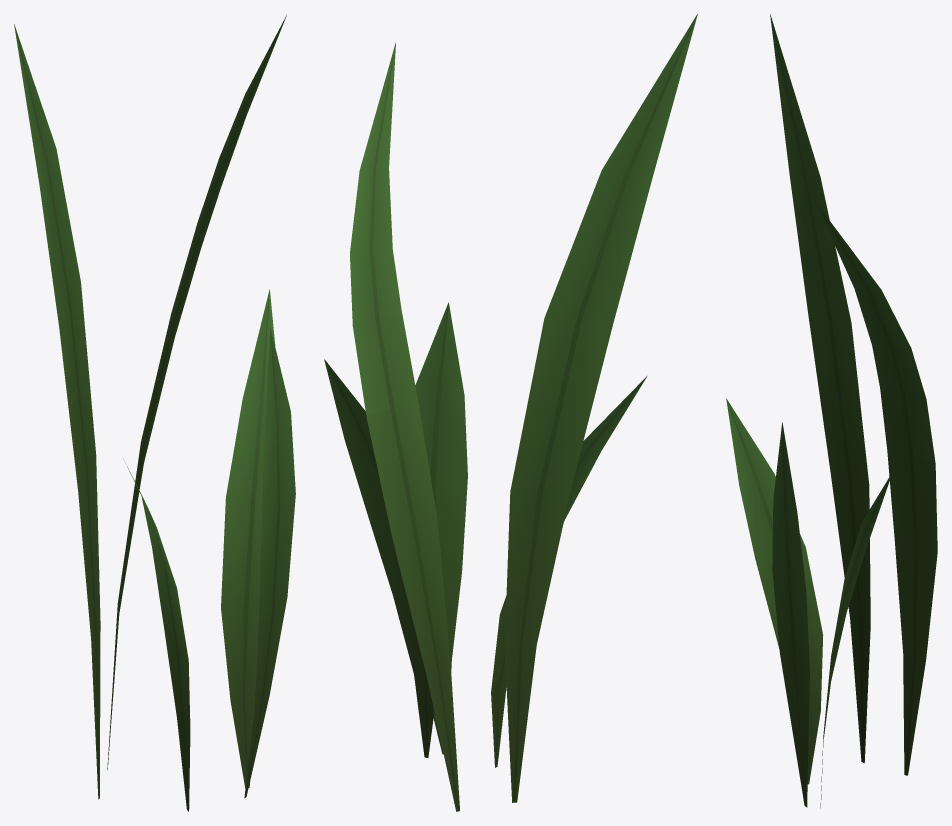
Rendered from TallGrass_2.fbx.
The picture shows the model from 3 angles, left to right: view 1: azimuth 30°, elevation 25°; view 2: azimuth 150°, elevation 25°; view 3: azimuth 270°, elevation 25°; orthographic projection. The views are drawn at different scales.
Visible parts, largest first — view 1: Plane.155; view 2: Plane.155; view 3: Plane.155.
Boxes of the visible parts, x1,y1,x2,y2 form: Plane.155: (14,15,295,811); Plane.155: (324,14,697,811); Plane.155: (726,14,937,808).
Bounding box in the file's own units: 128 × 86.87 × 314.
